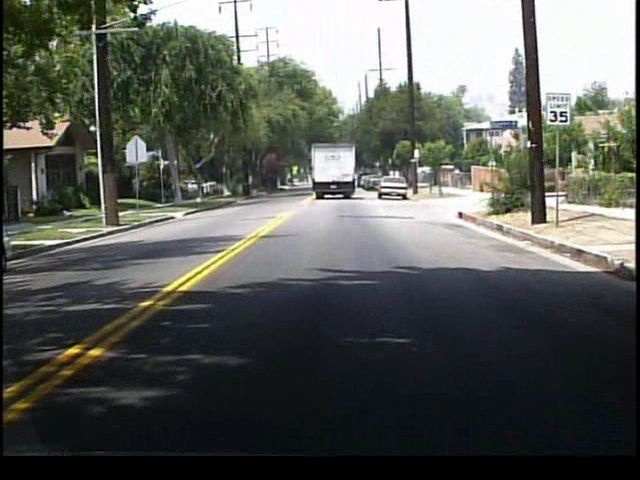person: (451, 165, 462, 190)
